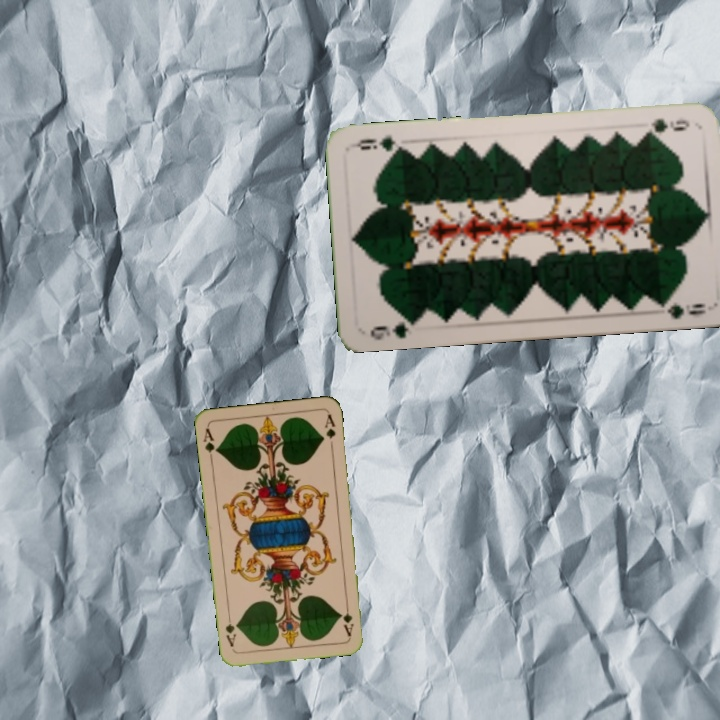G9: (366, 313, 421, 343), (639, 114, 692, 137)
GA: (199, 424, 220, 464), (340, 598, 356, 639)
